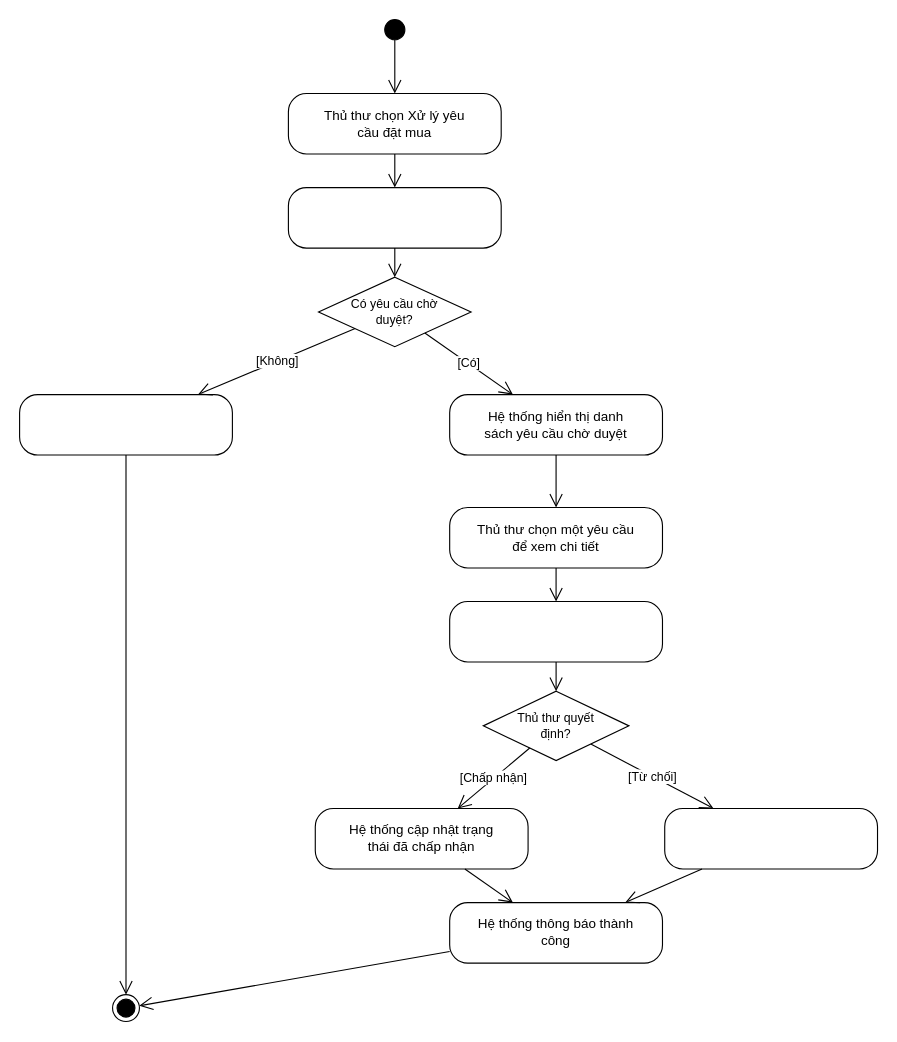
The diagram is 897 pixels wide and 1042 high, and some of its shapes have lost their labels. Each missing label, with the centre of its shape:
Hệ thống cập nhật trạng thái đã từ chối: the point at 771,838
Hệ thống hiển thị thông tin chi tiết yêu cầu: the point at 555,631
Hệ thống thông báo không có yêu cầu nào: the point at 125,424
Hệ thống tìm các yêu cầu chờ duyệt: the point at 394,217
